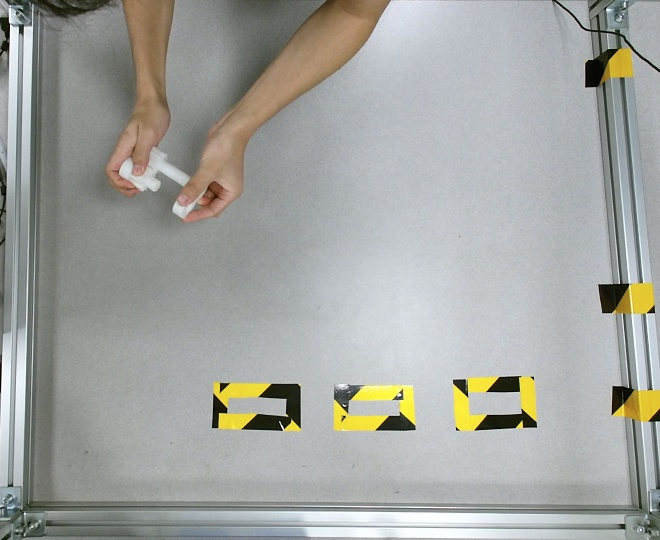stage_3: (119, 148, 191, 191)
